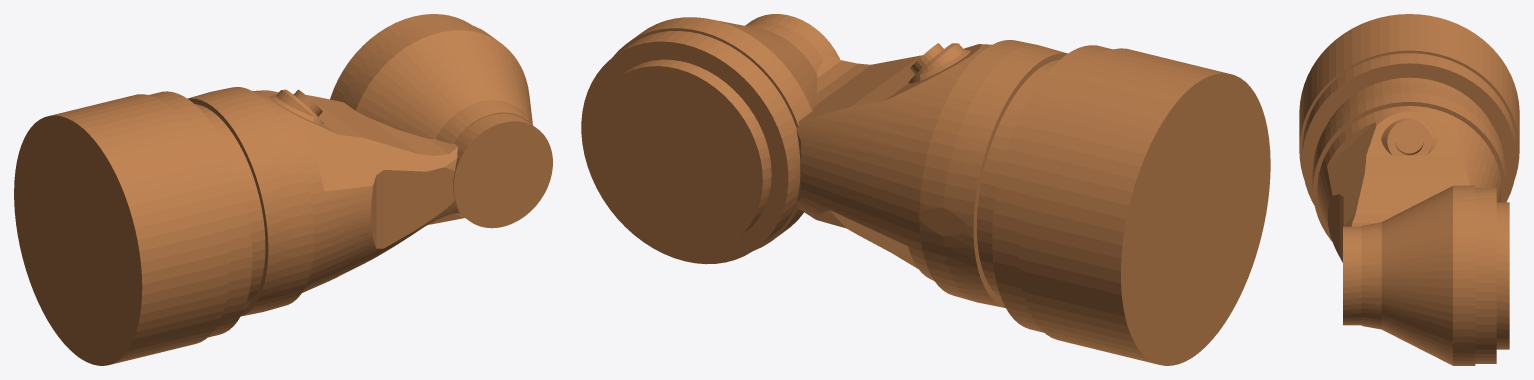
3 renders of one model, left to right at view 1: azimuth 30°, elevation 25°; view 2: azimuth 150°, elevation 25°; view 3: azimuth 270°, elevation 25°, orthographic. The views are drawn at different scales.
Visible parts, largest first — view 1: Link_4; view 2: Link_4; view 3: Link_4.
Part boxes in pixels (x1,y1,x2,y2): Link_4: (14, 14, 552, 365); Link_4: (581, 14, 1270, 365); Link_4: (1299, 14, 1519, 365).
Size of the model in its own units: 0.331 by 0.154 by 0.154.
